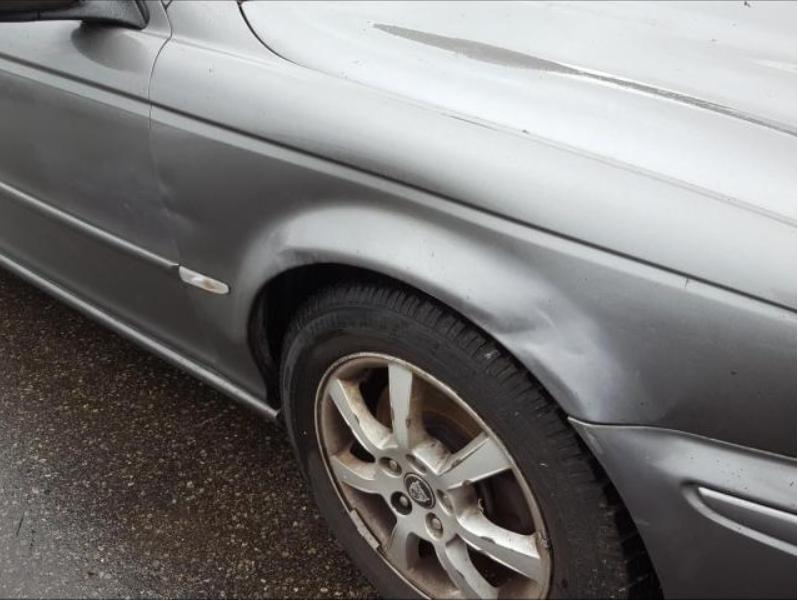Fender: (149, 0, 798, 459)
Front-bumper: (570, 418, 797, 600)
Front-door: (0, 1, 221, 379)
Front-wheel: (283, 282, 628, 600)
Hood: (242, 0, 797, 223)
Mirror: (0, 1, 148, 28)
Rocker-panel: (1, 256, 282, 425)
